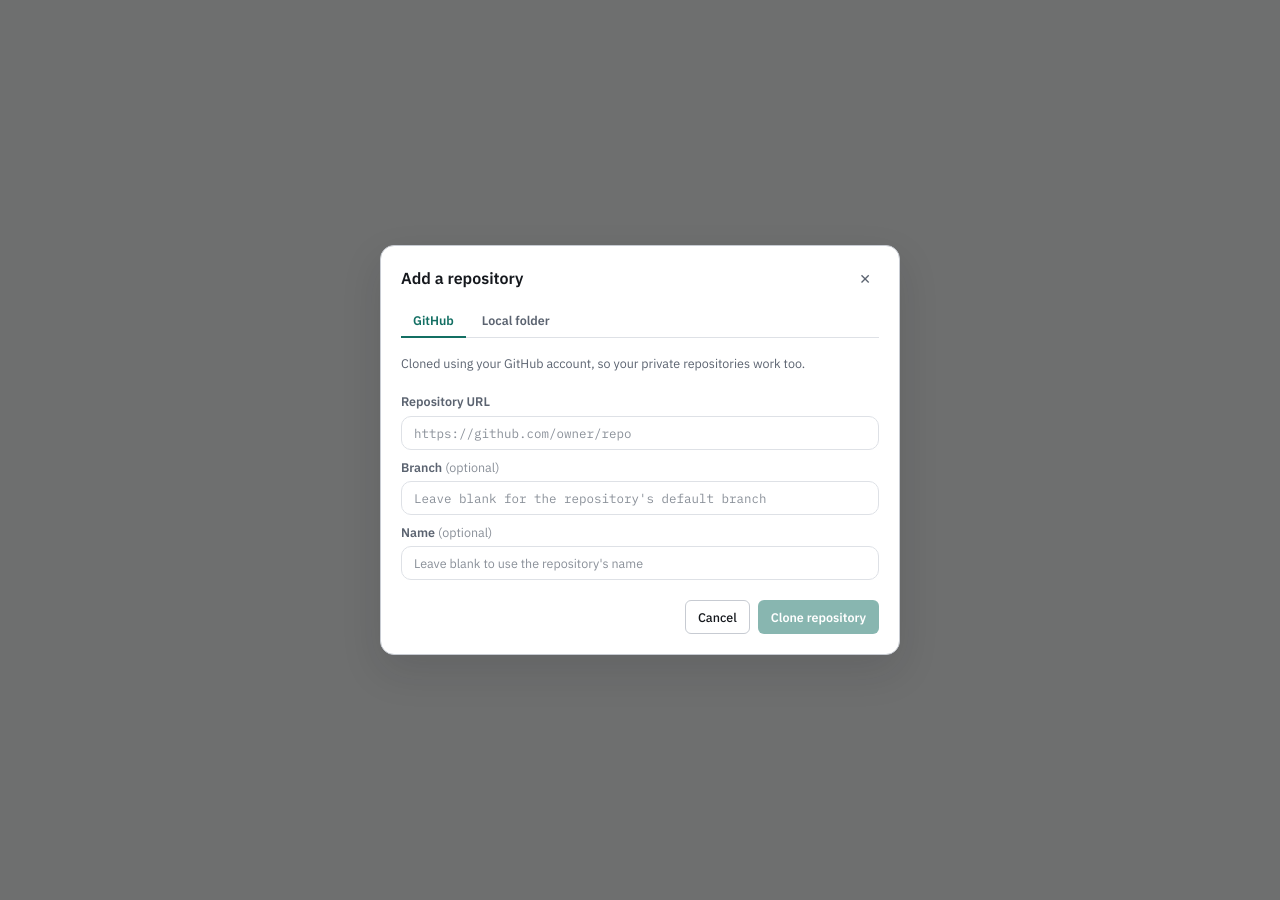
Test: AddRepositoryDialogComponent › GitHub tab › accepts an https URL
Type "https://github.com/o/r" into the field with id "github-url". click: x=640, y=433
box: [401, 416, 879, 450]
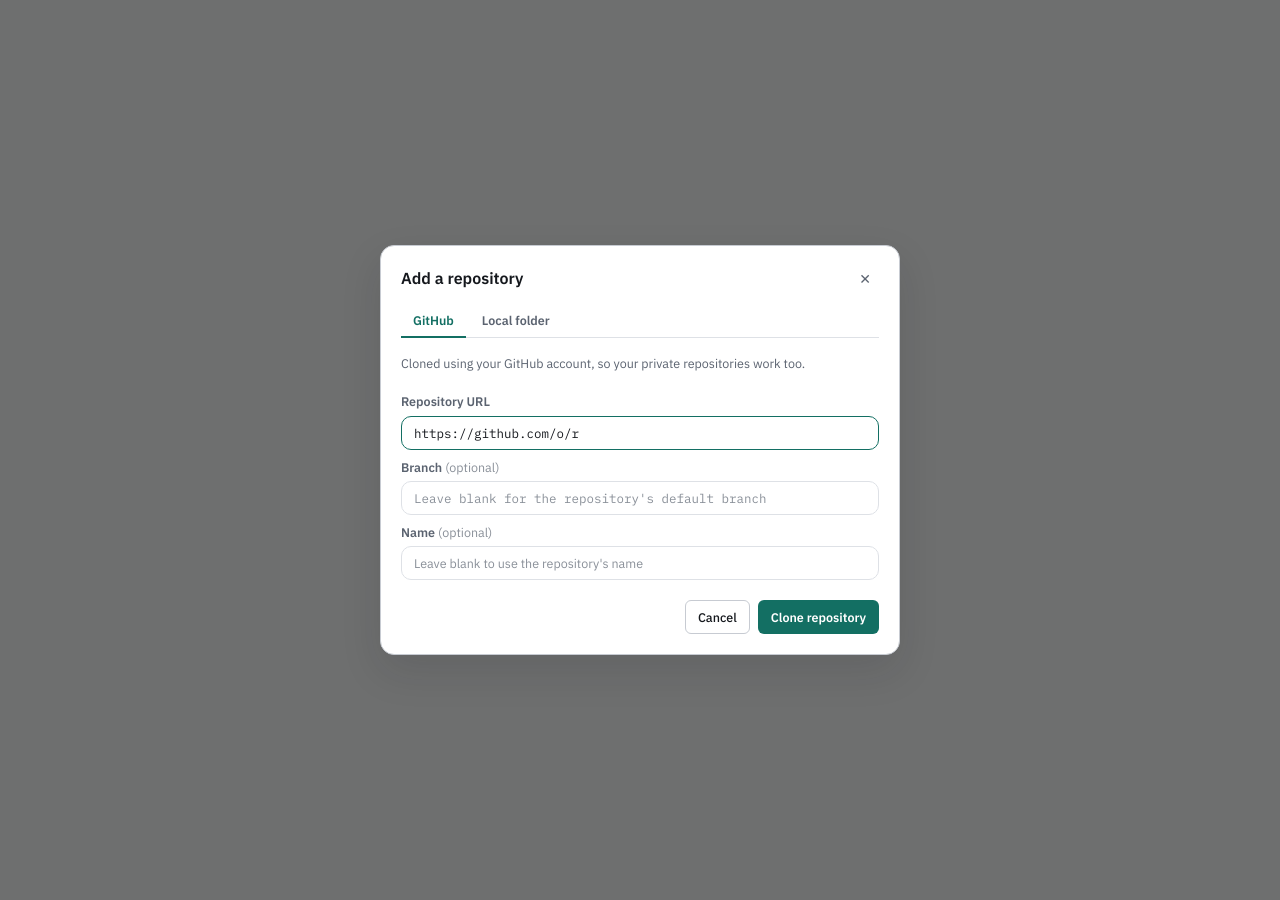
Check: the submit button is enabled, box [758, 600, 879, 634]
